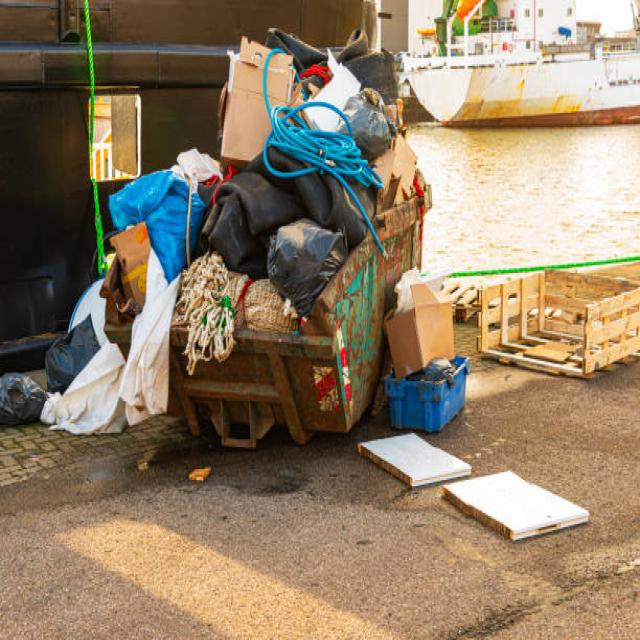cardboard: (210, 26, 303, 150), (392, 276, 459, 378)
trash: (99, 147, 389, 396), (4, 339, 90, 417)
